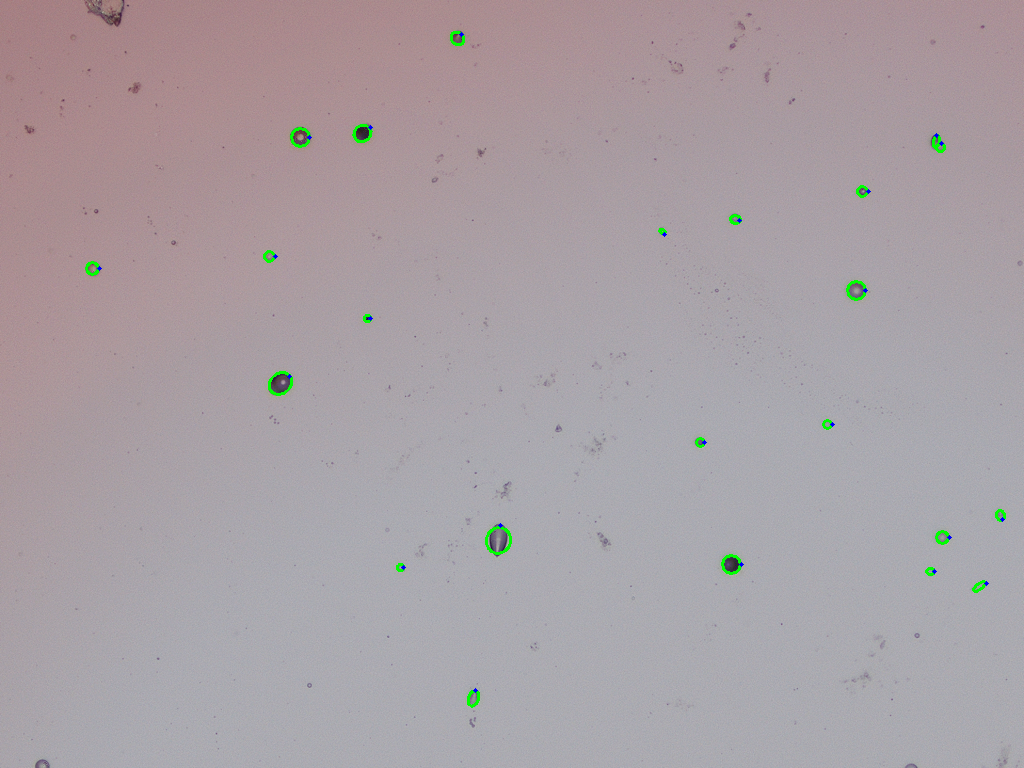circle: (721, 554, 741, 574), (290, 127, 309, 147), (847, 281, 865, 300), (935, 530, 949, 544), (85, 261, 99, 275), (264, 250, 275, 261), (729, 213, 740, 224), (822, 419, 832, 429), (695, 437, 704, 447), (926, 567, 934, 575), (396, 563, 403, 570), (363, 314, 370, 321)
ellipse: (489, 523, 507, 557), (268, 372, 293, 395), (353, 124, 372, 143), (467, 689, 479, 708), (451, 30, 464, 45), (970, 582, 987, 591), (995, 509, 1005, 522), (931, 134, 940, 148), (856, 186, 868, 196), (935, 142, 945, 152), (658, 227, 665, 235)
